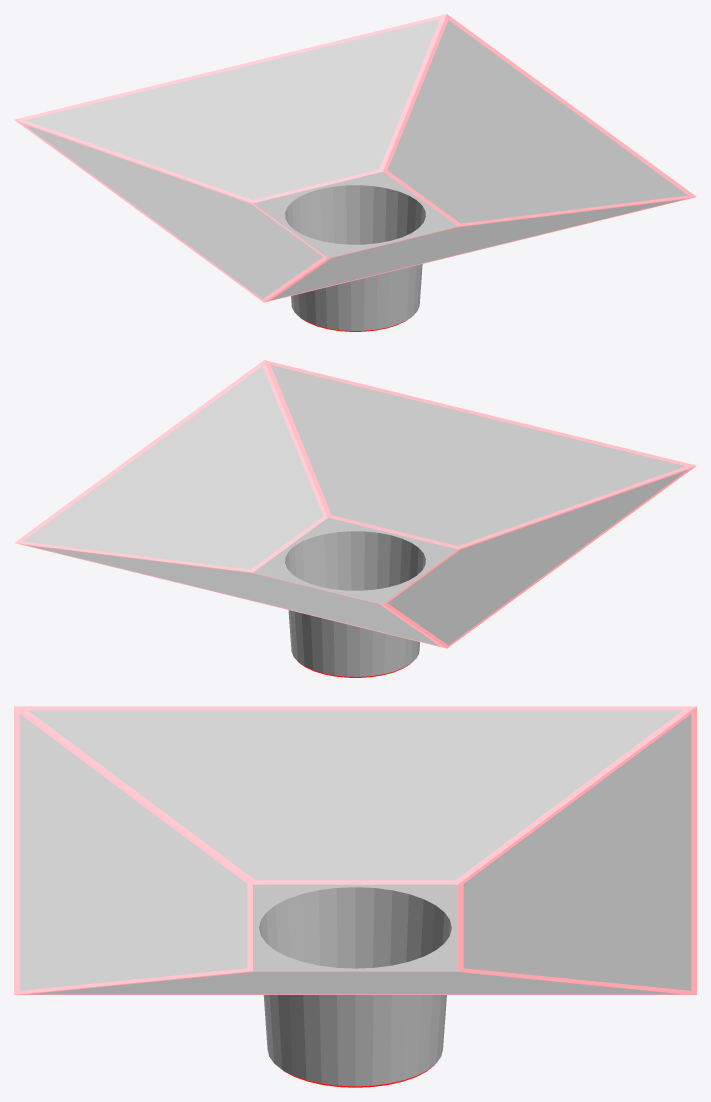
The model's file is RecessedButton.gltf.
3 renders of one model, top to bottom at view 1: azimuth 30°, elevation 25°; view 2: azimuth 150°, elevation 25°; view 3: azimuth 270°, elevation 25°, orthographic. The views are drawn at different scales.
Parts seen in each view (by area): view 1: Base; view 2: Base; view 3: Base.
Boxes of the visible parts, box(x1,y1,x2,y2) form: Base: box(14, 14, 696, 330); Base: box(14, 360, 696, 676); Base: box(14, 706, 696, 1086).
Bounding box in the file's own units: 8 × 2.6 × 8.
